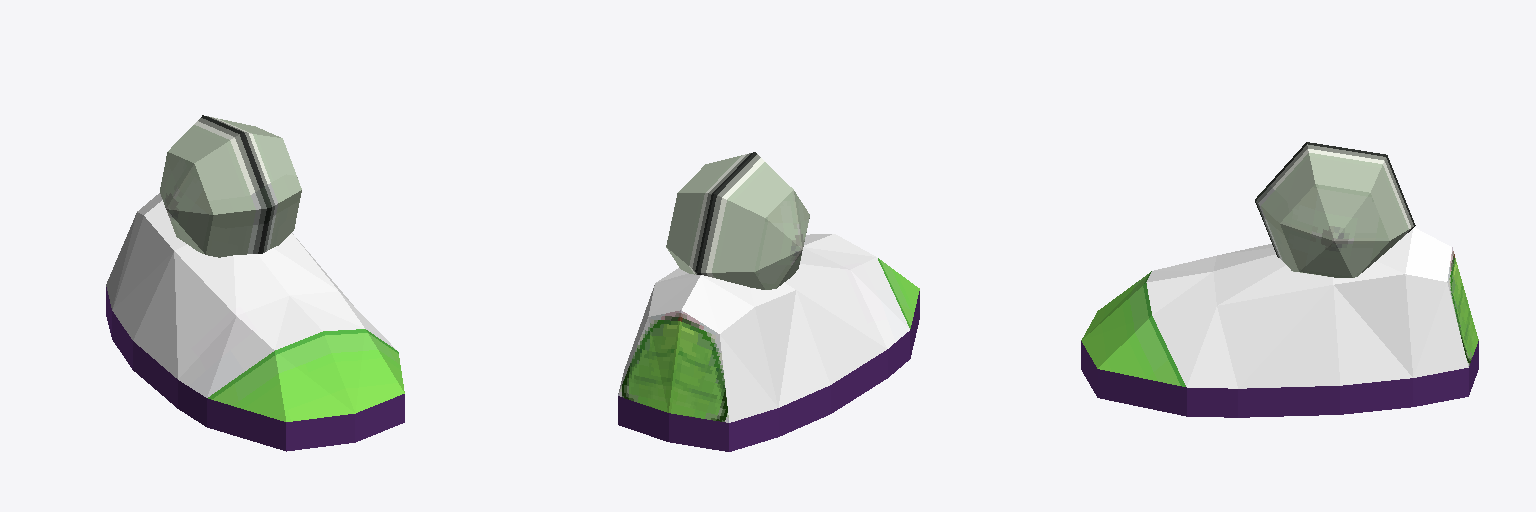
The picture shows the model from 3 angles: view 1: azimuth 30°, elevation 25°; view 2: azimuth 150°, elevation 25°; view 3: azimuth 270°, elevation 25°; orthographic projection.
Visible parts, largest first — view 1: buzzlightyLeftFoot_buzzlighty.001; view 2: buzzlightyLeftFoot_buzzlighty.001; view 3: buzzlightyLeftFoot_buzzlighty.001.
Boxes of the visible parts, <box> form: buzzlightyLeftFoot_buzzlighty.001: <box>106,115,404,451</box>; buzzlightyLeftFoot_buzzlighty.001: <box>618,152,919,451</box>; buzzlightyLeftFoot_buzzlighty.001: <box>1081,142,1478,417</box>.
Size of the model in its own units: 0.1084 by 0.1195 by 0.1889.
Materials: 1 (1 with a texture image).